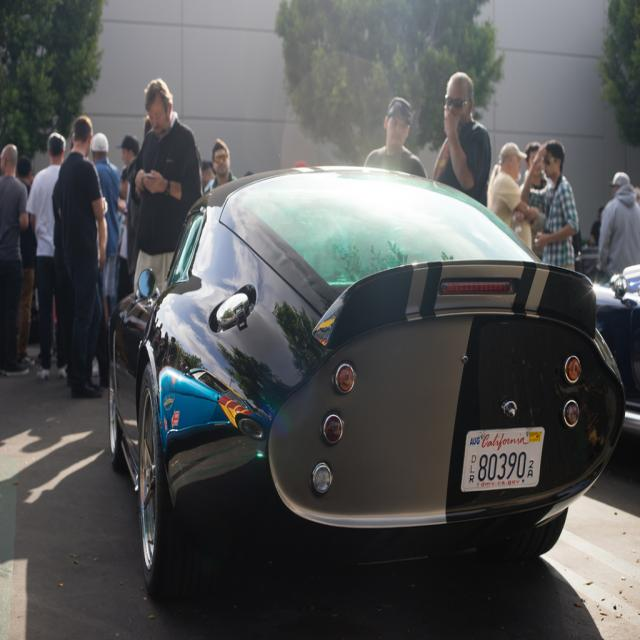car: (117, 137, 617, 588)
